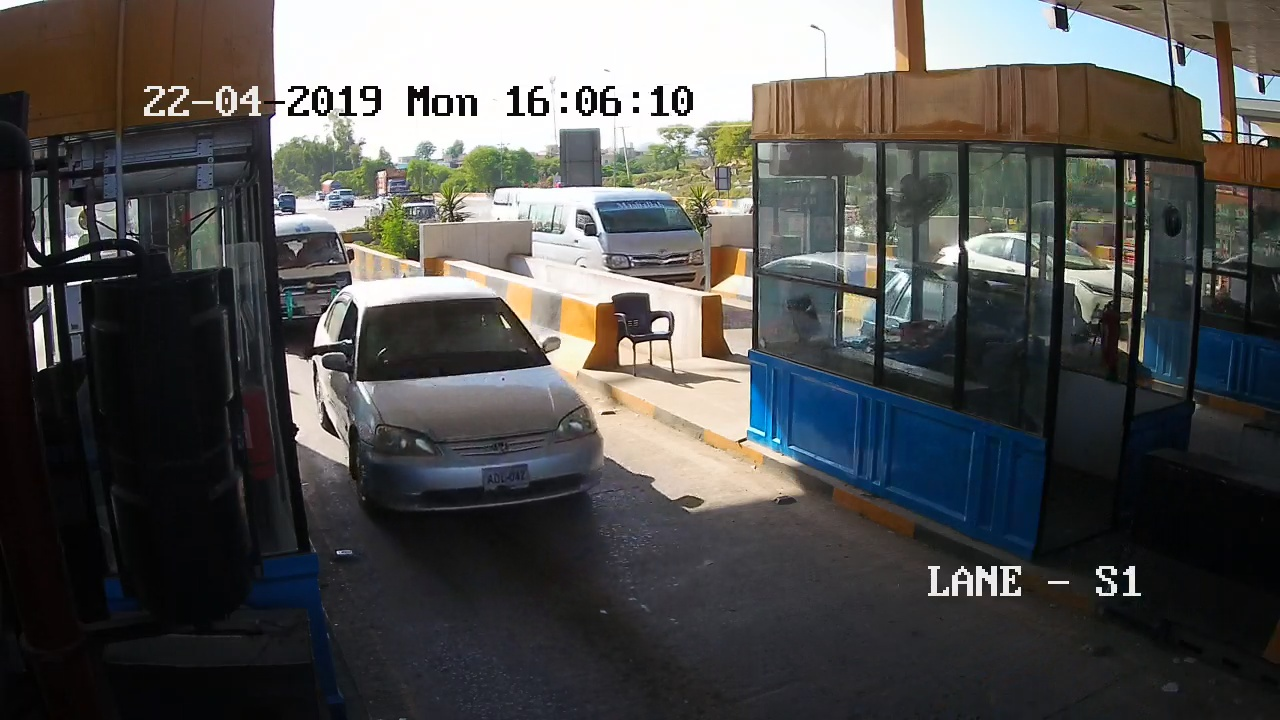Number Plate (Car): (477, 465, 532, 489), (302, 305, 323, 315)
